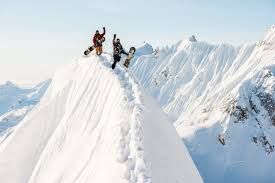snowboard: (81, 36, 104, 57), (123, 45, 137, 67)
